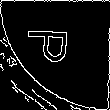P_E: (30, 36, 80, 74)
